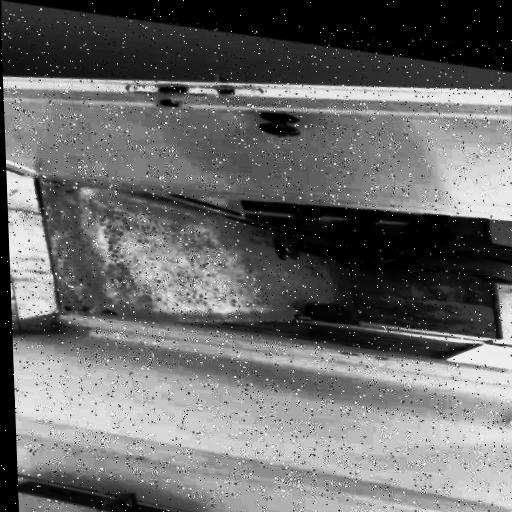balloon: (302, 295, 365, 324)
